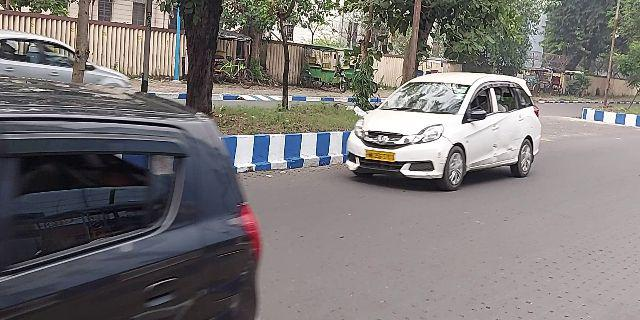Car: (1, 80, 256, 320), (342, 75, 550, 188)
